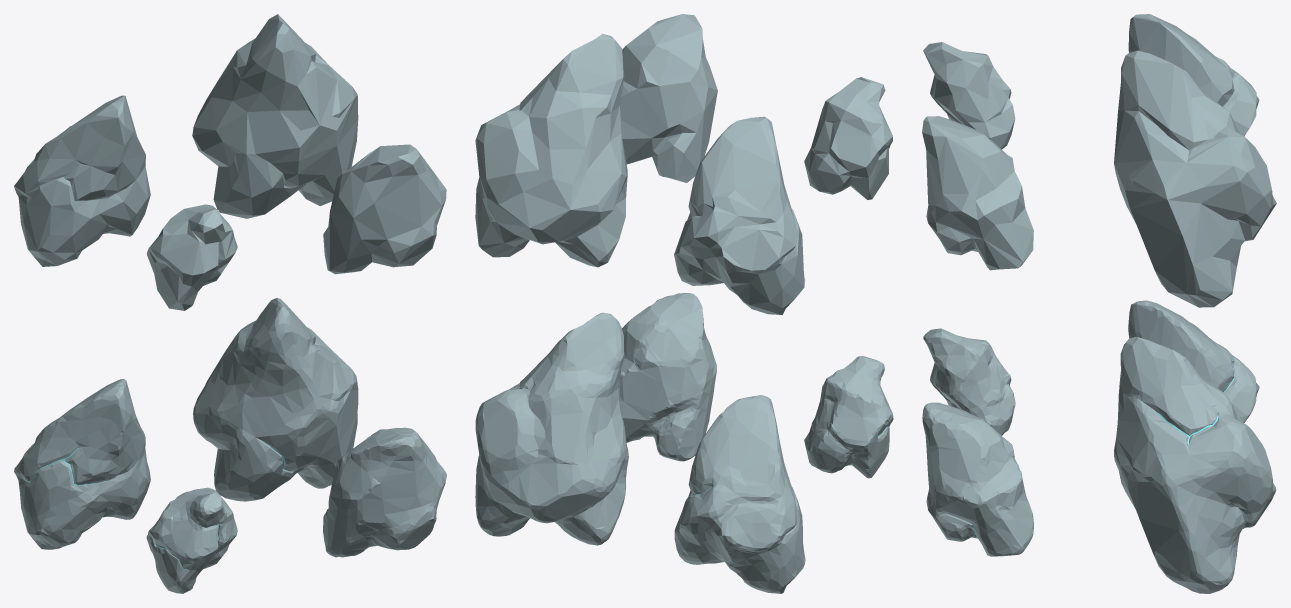
Rendered from DriftRocks.dae.
The picture shows the model from 3 angles, left to right: view 1: azimuth 30°, elevation 25°; view 2: azimuth 150°, elevation 25°; view 3: azimuth 270°, elevation 25°; orthographic projection. The views are drawn at different scales.
Visible parts, largest first — view 1: DriftRock1, DriftRock1Col, DriftRock2, DriftRock2Col, DriftRock4, DriftRock4Col, DriftRock3, DriftRock3col; view 2: DriftRock1, DriftRock1Col, DriftRock2, DriftRock2Col, DriftRock4, DriftRock4Col, DriftRock3col, DriftRock3; view 3: DriftRock1, DriftRock1Col, DriftRock4, DriftRock4Col, DriftRock3, DriftRock3col, DriftRock2Col, DriftRock2.
Part boxes in pixels (bbox=[...]): DriftRock1: bbox=[193, 298, 358, 501]; DriftRock1Col: bbox=[192, 14, 358, 218]; DriftRock2: bbox=[14, 379, 150, 549]; DriftRock2Col: bbox=[14, 95, 150, 266]; DriftRock4: bbox=[323, 427, 446, 557]; DriftRock4Col: bbox=[323, 144, 446, 274]; DriftRock3: bbox=[146, 487, 237, 593]; DriftRock3col: bbox=[146, 204, 237, 310]; DriftRock1: bbox=[475, 312, 628, 545]; DriftRock1Col: bbox=[475, 33, 627, 267]; DriftRock2: bbox=[674, 395, 805, 593]; DriftRock2Col: bbox=[674, 116, 805, 314]; DriftRock4: bbox=[620, 293, 716, 461]; DriftRock4Col: bbox=[620, 14, 717, 182]; DriftRock3col: bbox=[804, 77, 892, 199]; DriftRock3: bbox=[804, 356, 893, 478]; DriftRock1: bbox=[1114, 336, 1276, 593]; DriftRock1Col: bbox=[1114, 50, 1276, 307]; DriftRock4: bbox=[922, 402, 1033, 556]; DriftRock4Col: bbox=[922, 116, 1033, 270]; DriftRock3: bbox=[923, 328, 1015, 435]; DriftRock3col: bbox=[923, 42, 1015, 149]; DriftRock2Col: bbox=[1128, 14, 1259, 136]; DriftRock2: bbox=[1128, 300, 1259, 422].
Size of the model in its own units: 13.53 by 12.51 by 19.78.
